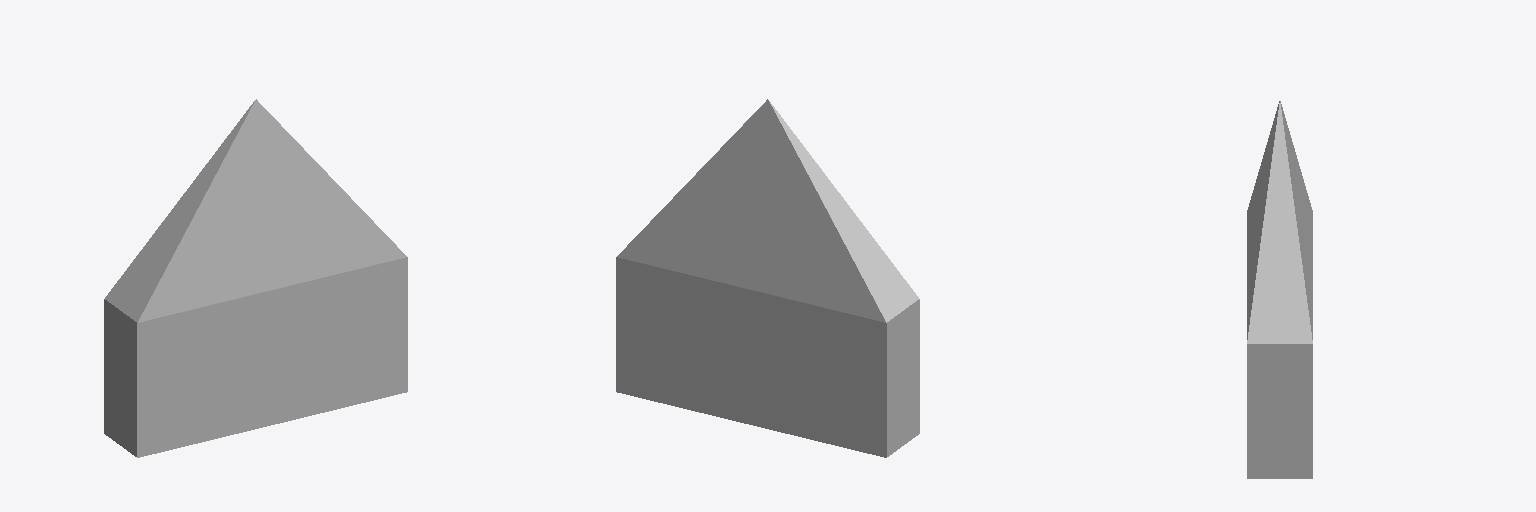
Rendered from marker_indicator.obj.
3 renders of one model, left to right at view 1: azimuth 30°, elevation 25°; view 2: azimuth 150°, elevation 25°; view 3: azimuth 270°, elevation 25°, orthographic.
Visible parts, largest first — view 1: marker_indicator; view 2: marker_indicator; view 3: marker_indicator.
Part boxes in pixels (x1,y1,x2,y2): marker_indicator: (104,99,407,457); marker_indicator: (616,99,919,457); marker_indicator: (1247,101,1312,478).
Bounding box in the file's own units: 1 × 1.11 × 0.2121.